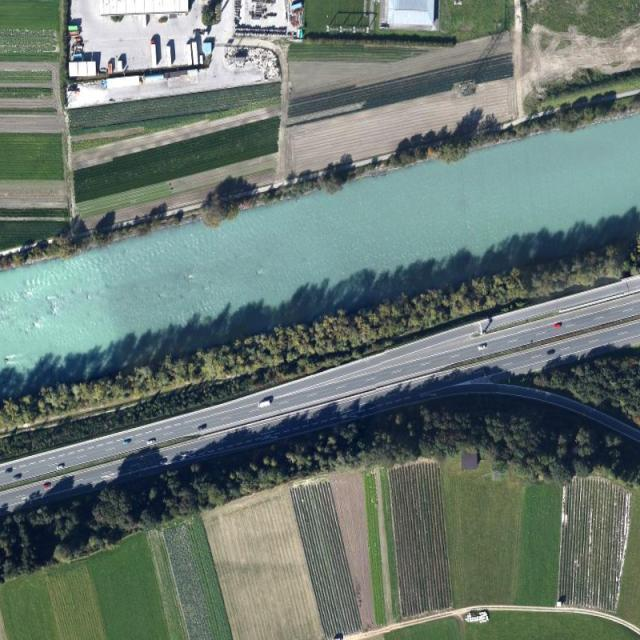vehicle: (165, 46, 173, 67), (186, 42, 192, 66), (258, 400, 271, 410), (151, 41, 156, 66), (56, 463, 66, 470), (13, 474, 23, 481), (554, 322, 563, 329), (42, 483, 51, 490), (5, 467, 14, 474), (478, 344, 487, 351), (146, 440, 156, 446), (68, 26, 80, 31), (547, 350, 556, 356), (198, 425, 206, 430), (122, 440, 130, 444)
